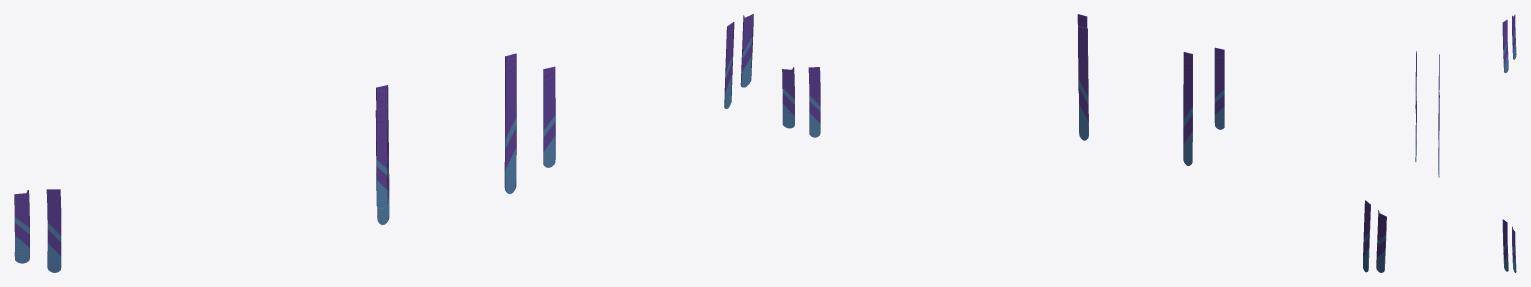
The model's file is pref_sm_beach_techled03_lv2.fbx.
3 renders of one model, left to right at view 1: azimuth 30°, elevation 25°; view 2: azimuth 150°, elevation 25°; view 3: azimuth 270°, elevation 25°, orthographic. The views are drawn at different scales.
Parts seen in each view (by area): view 1: pref_sm_beach_techled03_lv2; view 2: pref_sm_beach_techled03_lv2; view 3: pref_sm_beach_techled03_lv2.
Part boxes in pixels (bbox=[...]): pref_sm_beach_techled03_lv2: bbox=[14, 14, 753, 272]; pref_sm_beach_techled03_lv2: bbox=[782, 14, 1386, 272]; pref_sm_beach_techled03_lv2: bbox=[1415, 14, 1516, 272].
Bounding box in the file's own units: 91.32 × 18.95 × 17.87.
